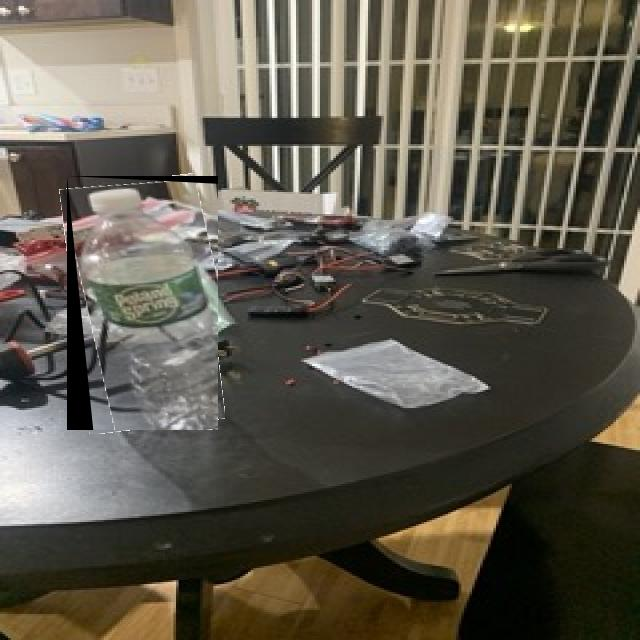water_bottle: (67, 177, 218, 430)
